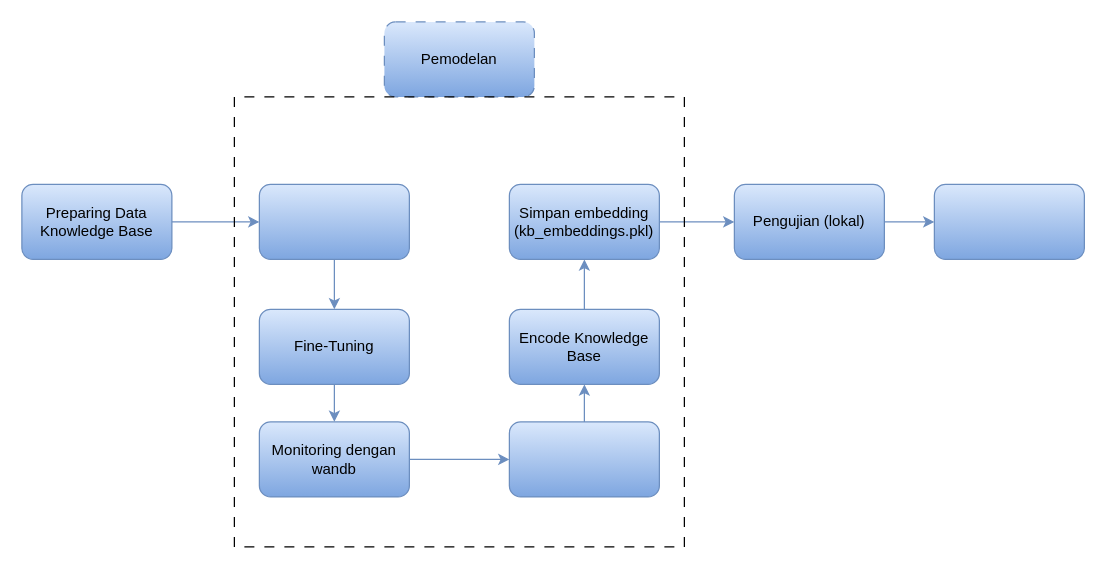
Image size: 1106x569. Some labels were removed from this diagram. The shapes that lost their labels are listed below. From the top down, each one's box as (x1, y1, x2, y2) in pixels, then its label:
(258, 183, 409, 259): Muat Model Indobert
(933, 183, 1084, 259): Integrasi ke Website
(508, 421, 659, 497): Simpan model
